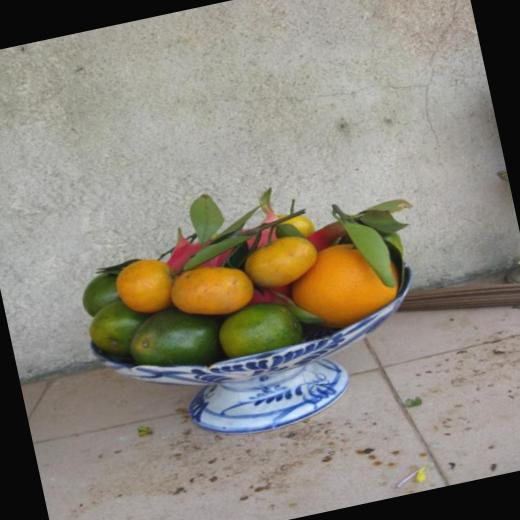Grape: (72, 192, 409, 388)
